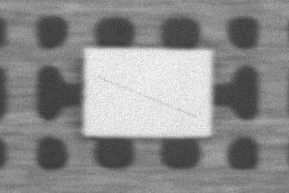DIE_CRACK: (147, 51, 289, 78)
